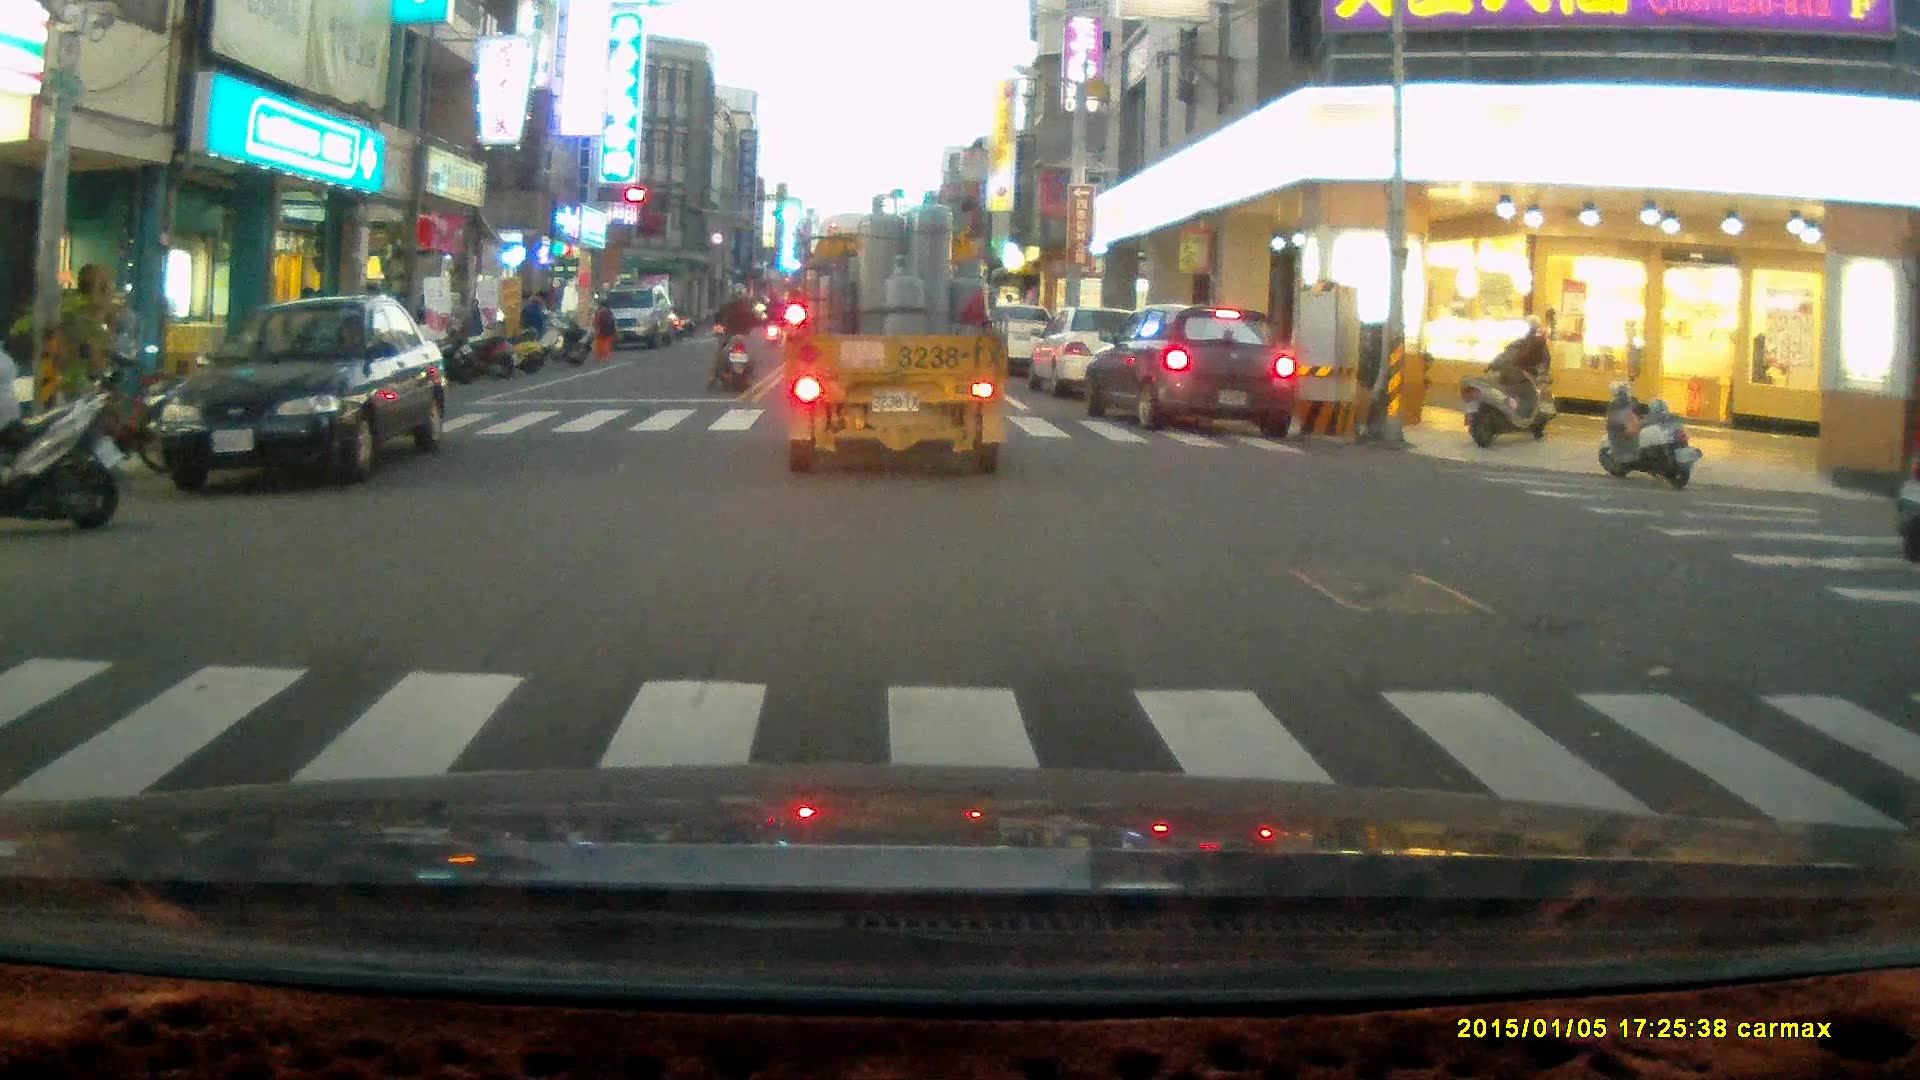pedestrian: (520, 285, 550, 358), (594, 295, 615, 359)
rider: (1492, 312, 1556, 442), (703, 279, 759, 396)
vehicle: (782, 189, 1006, 476), (154, 292, 451, 493), (1076, 307, 1308, 433), (1031, 307, 1160, 399), (597, 281, 680, 346)
